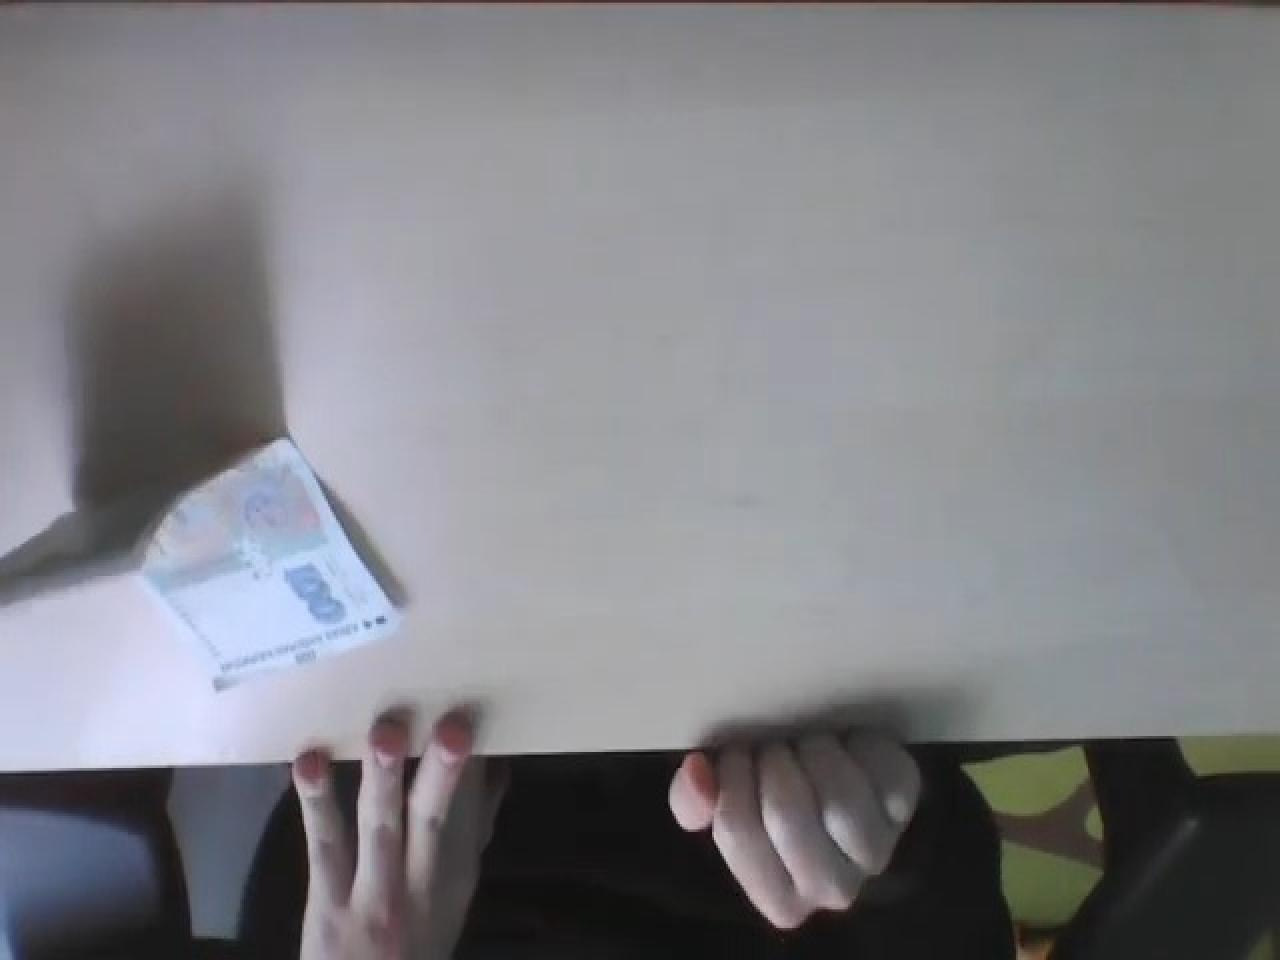100leva: (134, 435, 402, 699), (282, 560, 346, 629)
